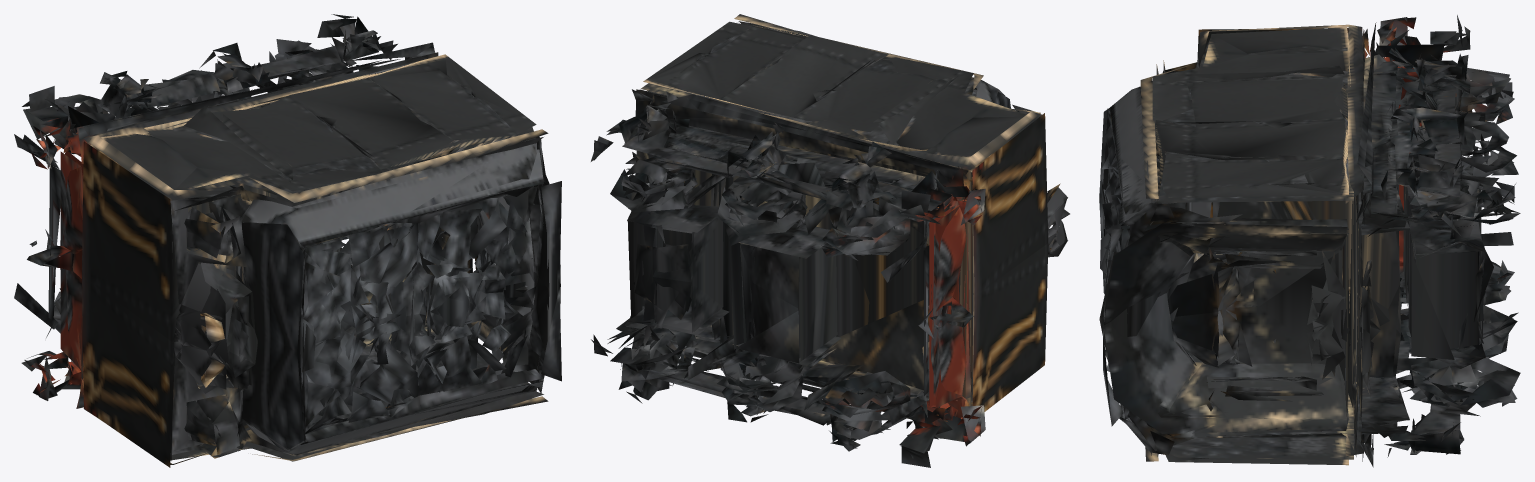
File: black_five_tender_r010.glb
3 renders of one model, left to right at view 1: azimuth 30°, elevation 25°; view 2: azimuth 150°, elevation 25°; view 3: azimuth 270°, elevation 25°, orthographic. The views are drawn at different scales.
Parts seen in each view (by area): view 1: part_tender.001; view 2: part_tender.001; view 3: part_tender.001.
Boxes of the visible parts, box(x1,y1,x2,y2) form: part_tender.001: box(14, 14, 561, 467); part_tender.001: box(591, 14, 1069, 467); part_tender.001: box(1099, 15, 1520, 467).
Bounding box in the file's own units: 3.76 × 2.85 × 3.61.
Materials: 1 (1 with a texture image).
